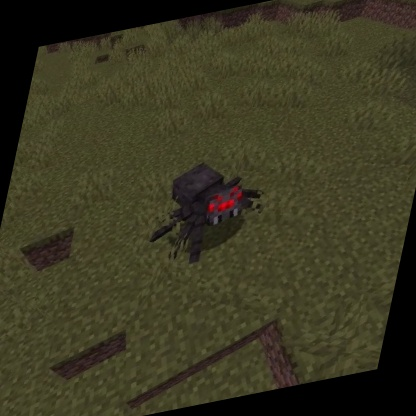spider: (138, 144, 280, 279)
